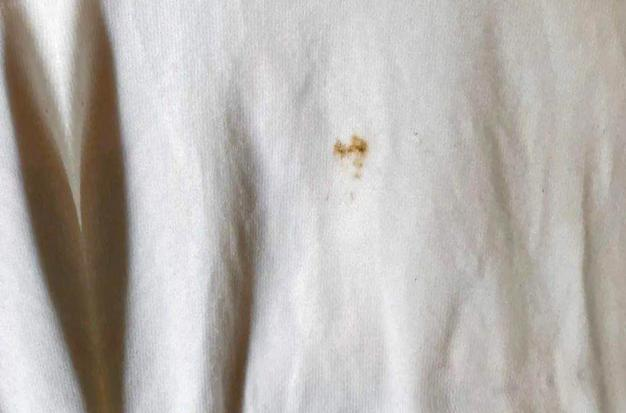stain: (327, 133, 373, 189)
